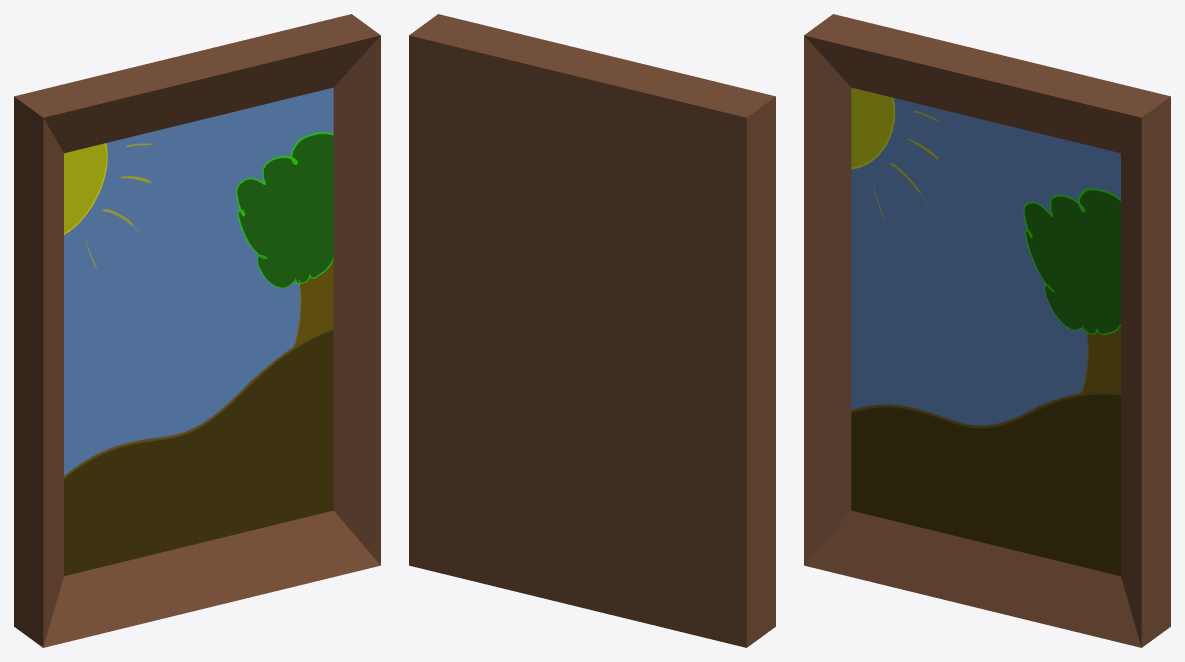
File: PaintingMonster.fbx
3 renders of one model, left to right at view 1: azimuth 30°, elevation 25°; view 2: azimuth 150°, elevation 25°; view 3: azimuth 330°, elevation 25°, orthographic.
Parts seen in each view (by area): view 1: FRame1, FRame2, FRame3; view 2: FRame3, FRame2, FRame1; view 3: FRame1, FRame2, FRame3.
Part boxes in pixels (left/top/right/bottom): FRame1: left=23, top=28, right=380, bottom=647; FRame2: left=19, top=38, right=319, bottom=643; FRame3: left=14, top=14, right=370, bottom=629; FRame3: left=409, top=21, right=766, bottom=647; FRame2: left=468, top=33, right=770, bottom=643; FRame1: left=429, top=14, right=775, bottom=629; FRame1: left=804, top=32, right=1161, bottom=647; FRame2: left=809, top=17, right=1165, bottom=621; FRame3: left=828, top=14, right=1170, bottom=640.
Size of the model in its own units: 400 by 600 by 60.
4 materials, 3 textured.
